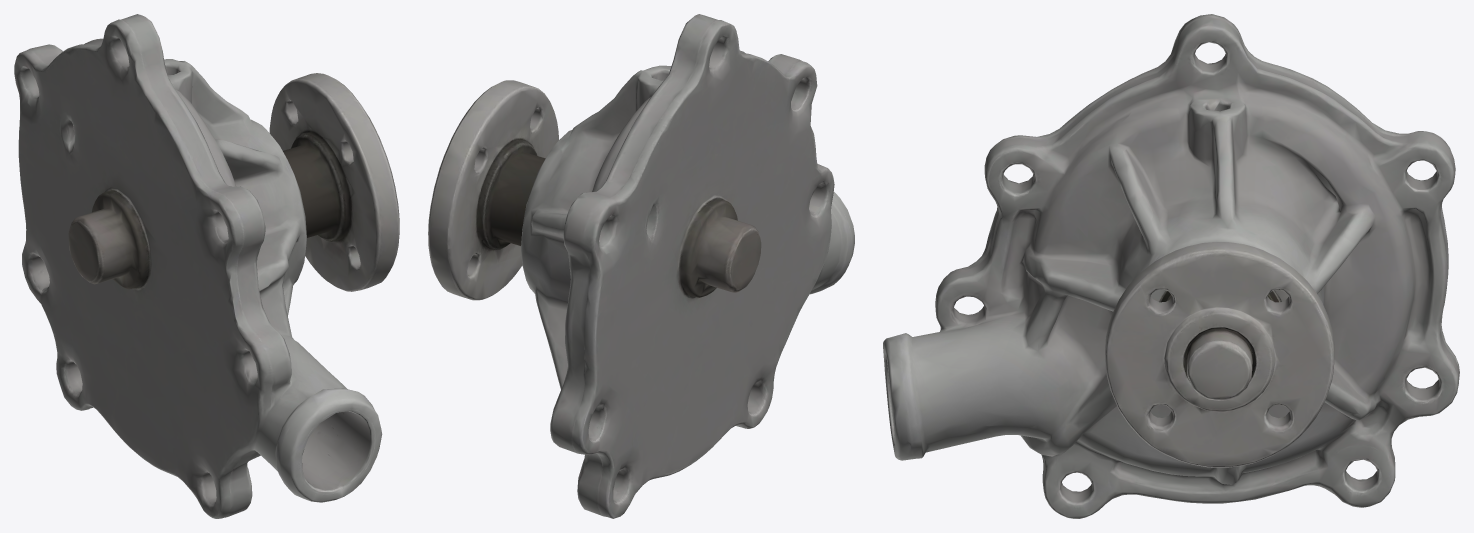
The model's file is water-pump.glb.
3 views of the same model, side by side, from view 1: azimuth 30°, elevation 25°; view 2: azimuth 150°, elevation 25°; view 3: azimuth 270°, elevation 25° (orthographic). The views are drawn at different scales.
Visible parts, largest first — view 1: tripo_node_2cdf1fa5-9c1a-49cf-8575-43658bd018c9; view 2: tripo_node_2cdf1fa5-9c1a-49cf-8575-43658bd018c9; view 3: tripo_node_2cdf1fa5-9c1a-49cf-8575-43658bd018c9.
Boxes of the visible parts, x1,y1,x2,y2 form: tripo_node_2cdf1fa5-9c1a-49cf-8575-43658bd018c9: (14, 14, 399, 518); tripo_node_2cdf1fa5-9c1a-49cf-8575-43658bd018c9: (428, 14, 854, 518); tripo_node_2cdf1fa5-9c1a-49cf-8575-43658bd018c9: (883, 14, 1459, 518).
Size of the model in its own units: 0.6253 by 0.9191 by 1.
Materials: 1 (1 with a texture image).
